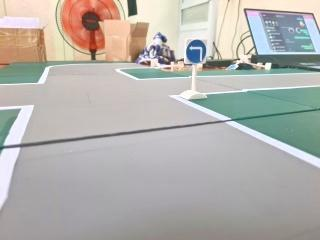left: (185, 39, 207, 64)
